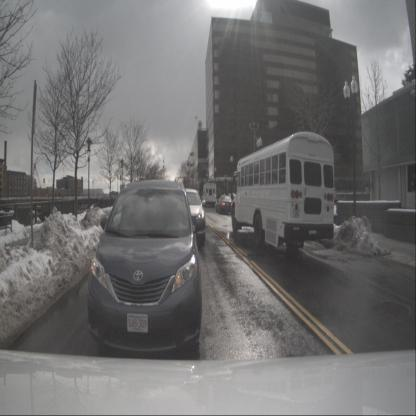human-pedestrian-adult: (230, 193, 234, 207), (226, 191, 228, 205), (59, 192, 61, 200)
vehicle-bus-rigid: (230, 130, 334, 250)
vehicle-car: (87, 181, 202, 359), (170, 188, 206, 245), (215, 193, 233, 214)
vehicle-truck: (202, 181, 217, 208)
